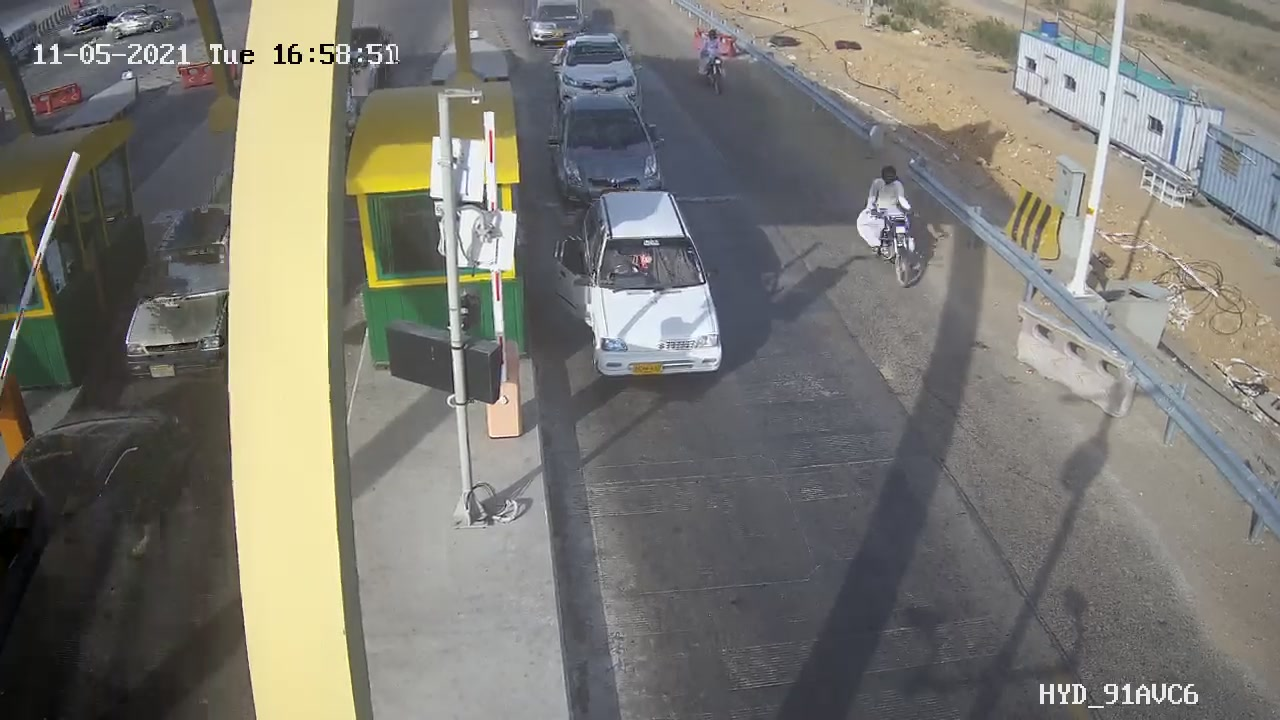F1: (548, 181, 734, 387)
